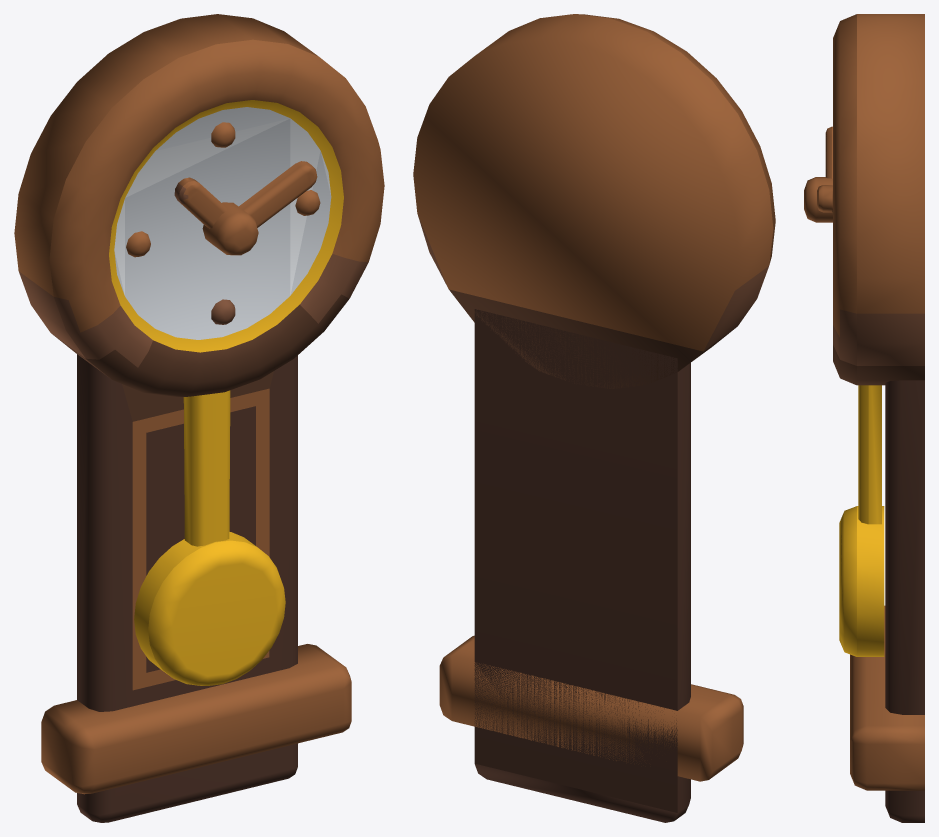
File: relogio_natal_pendulo_parede_pacote.glb
3 renders of one model, left to right at view 1: azimuth 30°, elevation 25°; view 2: azimuth 150°, elevation 25°; view 3: azimuth 270°, elevation 25°, orthographic. The views are drawn at different scales.
Visible parts, largest first — view 1: relogio_natal_pendulo_parede_pacote; view 2: relogio_natal_pendulo_parede_pacote; view 3: relogio_natal_pendulo_parede_pacote.
Part boxes in pixels (x1,y1,x2,y2): relogio_natal_pendulo_parede_pacote: (14, 14, 384, 822); relogio_natal_pendulo_parede_pacote: (413, 14, 775, 822); relogio_natal_pendulo_parede_pacote: (804, 14, 924, 822).
Bounding box in the file's own units: 0.4372 × 0.9714 × 0.1423.
Materials: 1 (1 with a texture image).
